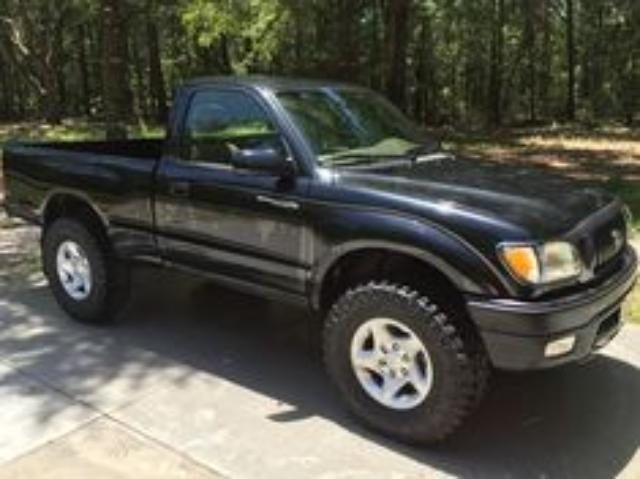pickup-truck: (1, 75, 639, 448)
